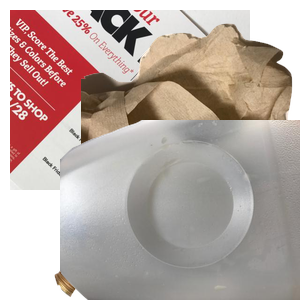glass: (52, 147, 292, 300)
paper: (10, 10, 250, 190)
plastic: (60, 120, 300, 300)
trash: (81, 21, 300, 201)
